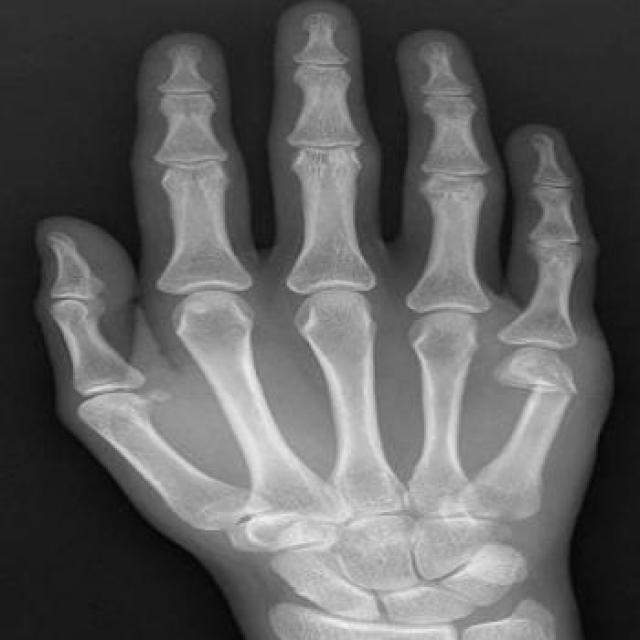Fracture: (490, 368, 569, 402)
